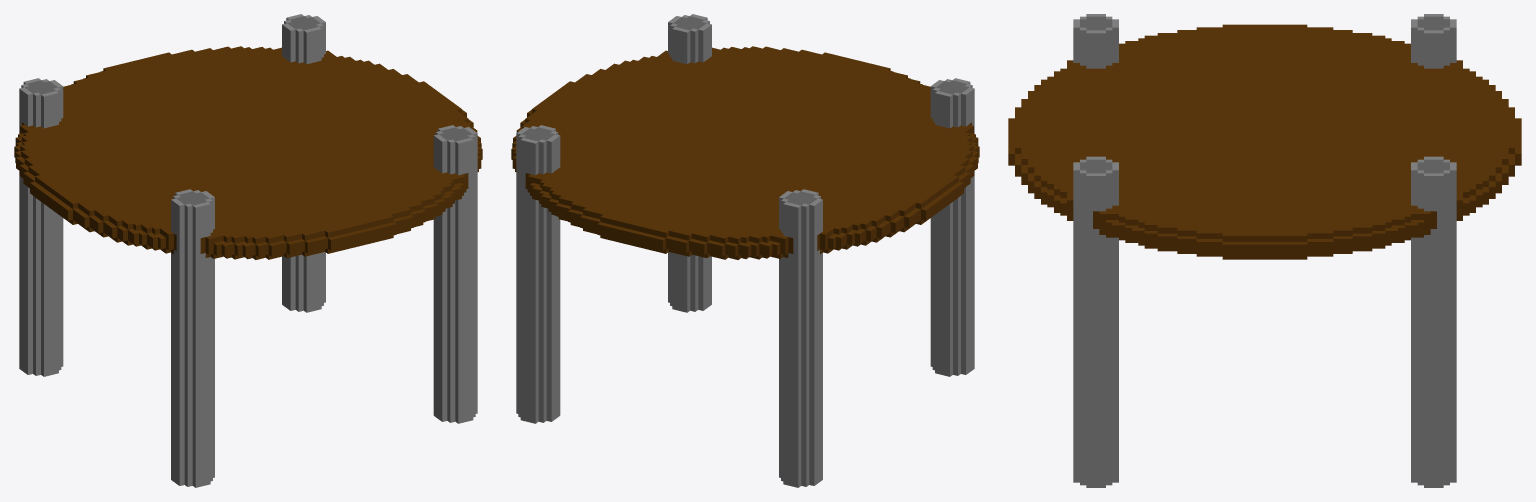
Rendered from _table.obj.
3 views of the same model, side by side, from view 1: azimuth 30°, elevation 25°; view 2: azimuth 150°, elevation 25°; view 3: azimuth 270°, elevation 25° (orthographic). The views are drawn at different scales.
Bounding box in the file's own units: 79 × 53 × 79.
Materials: 1 (1 with a texture image).
